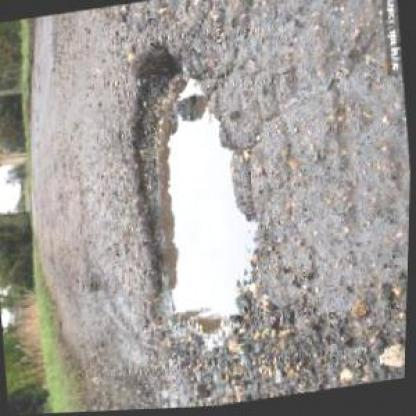pothole: (111, 29, 281, 379)
